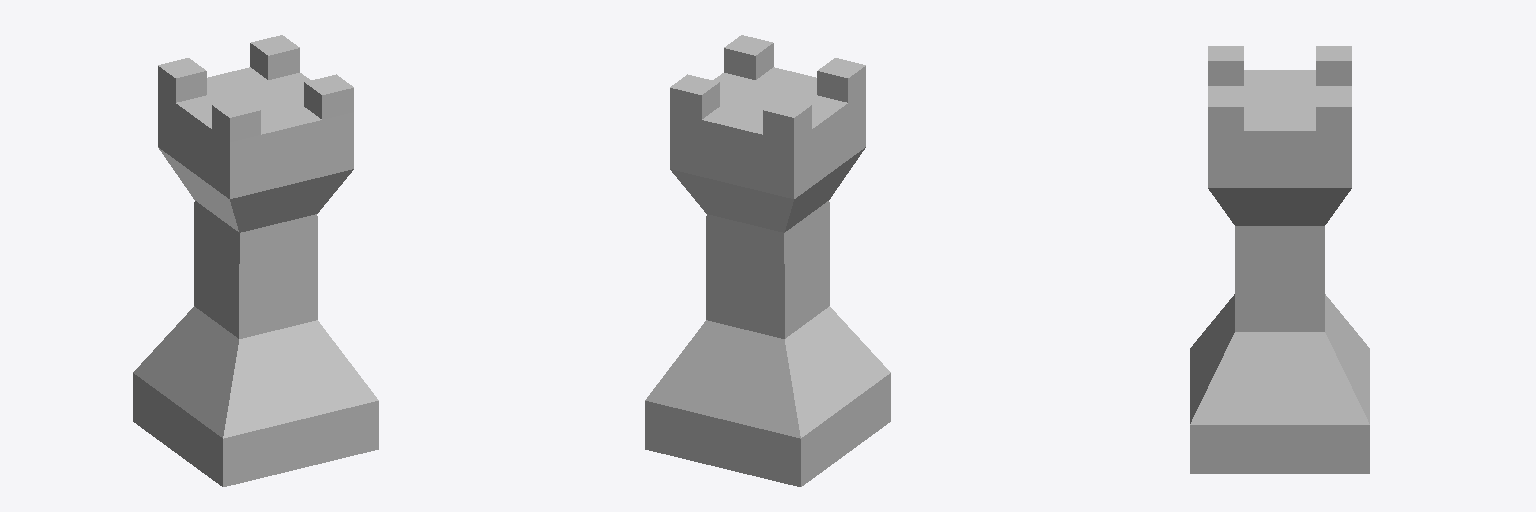
File: Rook.obj
The picture shows the model from 3 angles: view 1: azimuth 30°, elevation 25°; view 2: azimuth 150°, elevation 25°; view 3: azimuth 270°, elevation 25°; orthographic projection.
Visible parts, largest first — view 1: Rook; view 2: Rook; view 3: Rook.
Part boxes in pixels (bbox=[...]): Rook: bbox=[133, 35, 378, 486]; Rook: bbox=[645, 35, 890, 486]; Rook: bbox=[1190, 46, 1369, 473].
Bounding box in the file's own units: 2 × 4.4 × 2.